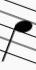note: (1, 0, 31, 65)
